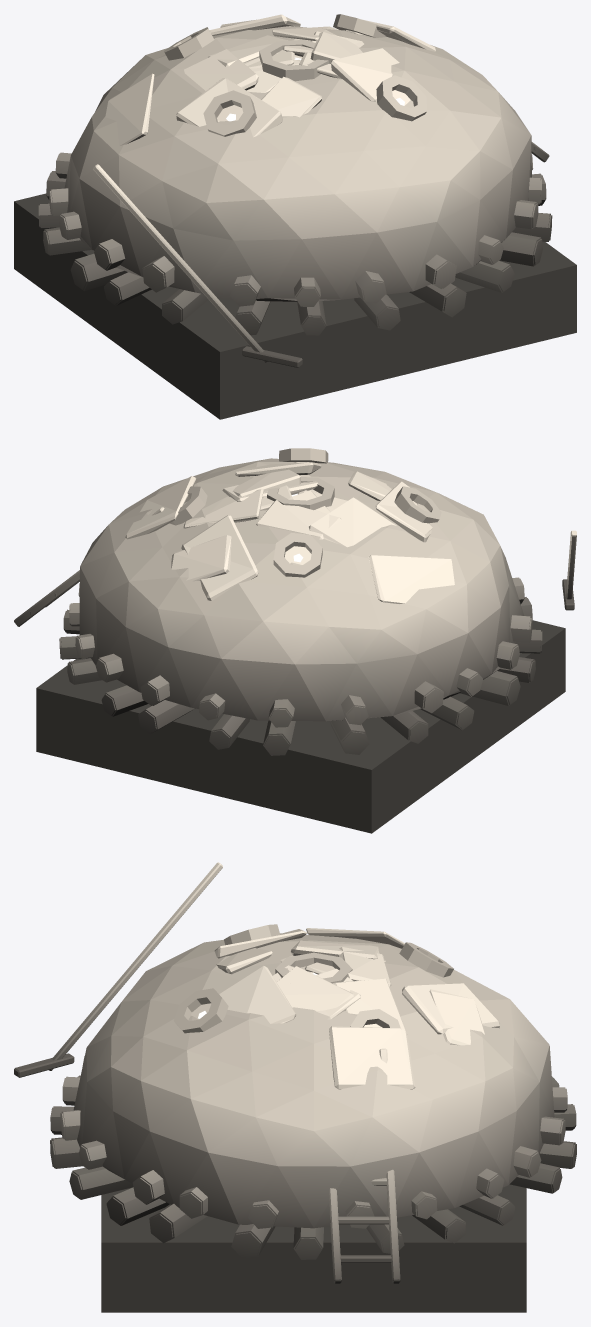
Rendered from SM_VK_Prop_CharcoalMound.fbx.
3 renders of one model, top to bottom at view 1: azimuth 30°, elevation 25°; view 2: azimuth 150°, elevation 25°; view 3: azimuth 270°, elevation 25°, orthographic. The views are drawn at different scales.
Parts seen in each view (by area): view 1: SM_VK_Prop_CharcoalMound.001; view 2: SM_VK_Prop_CharcoalMound.001; view 3: SM_VK_Prop_CharcoalMound.001.
Part boxes in pixels (<box>): SM_VK_Prop_CharcoalMound.001: <box>14,14,576,419</box>; SM_VK_Prop_CharcoalMound.001: <box>14,448,576,833</box>; SM_VK_Prop_CharcoalMound.001: <box>14,862,576,1312</box>.
Bounding box in the file's own units: 4.59 × 2.19 × 4.24.
